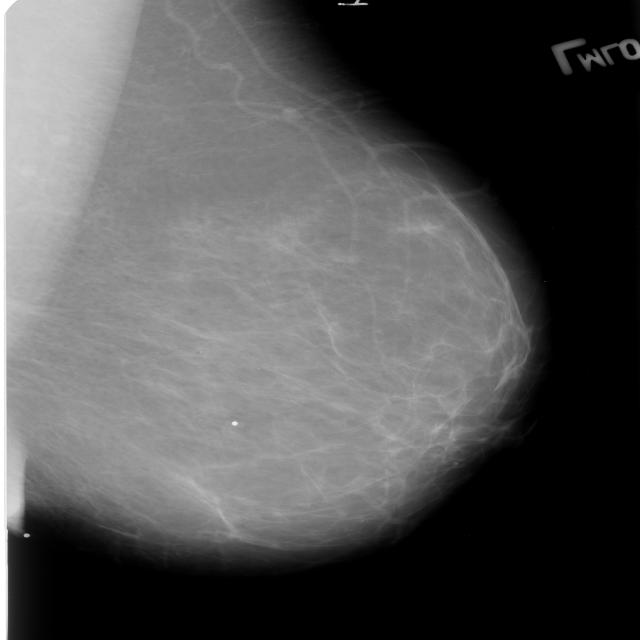normal: (0, 0, 556, 579)
